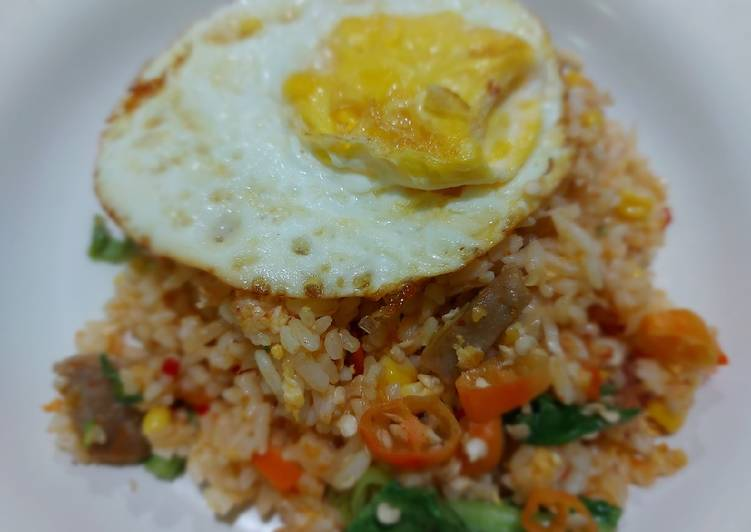Telur: (59, 10, 582, 295)
